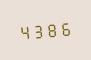eight: (44, 20, 56, 38)
four: (18, 22, 30, 41)
six: (57, 18, 69, 37)
three: (31, 21, 43, 40)
